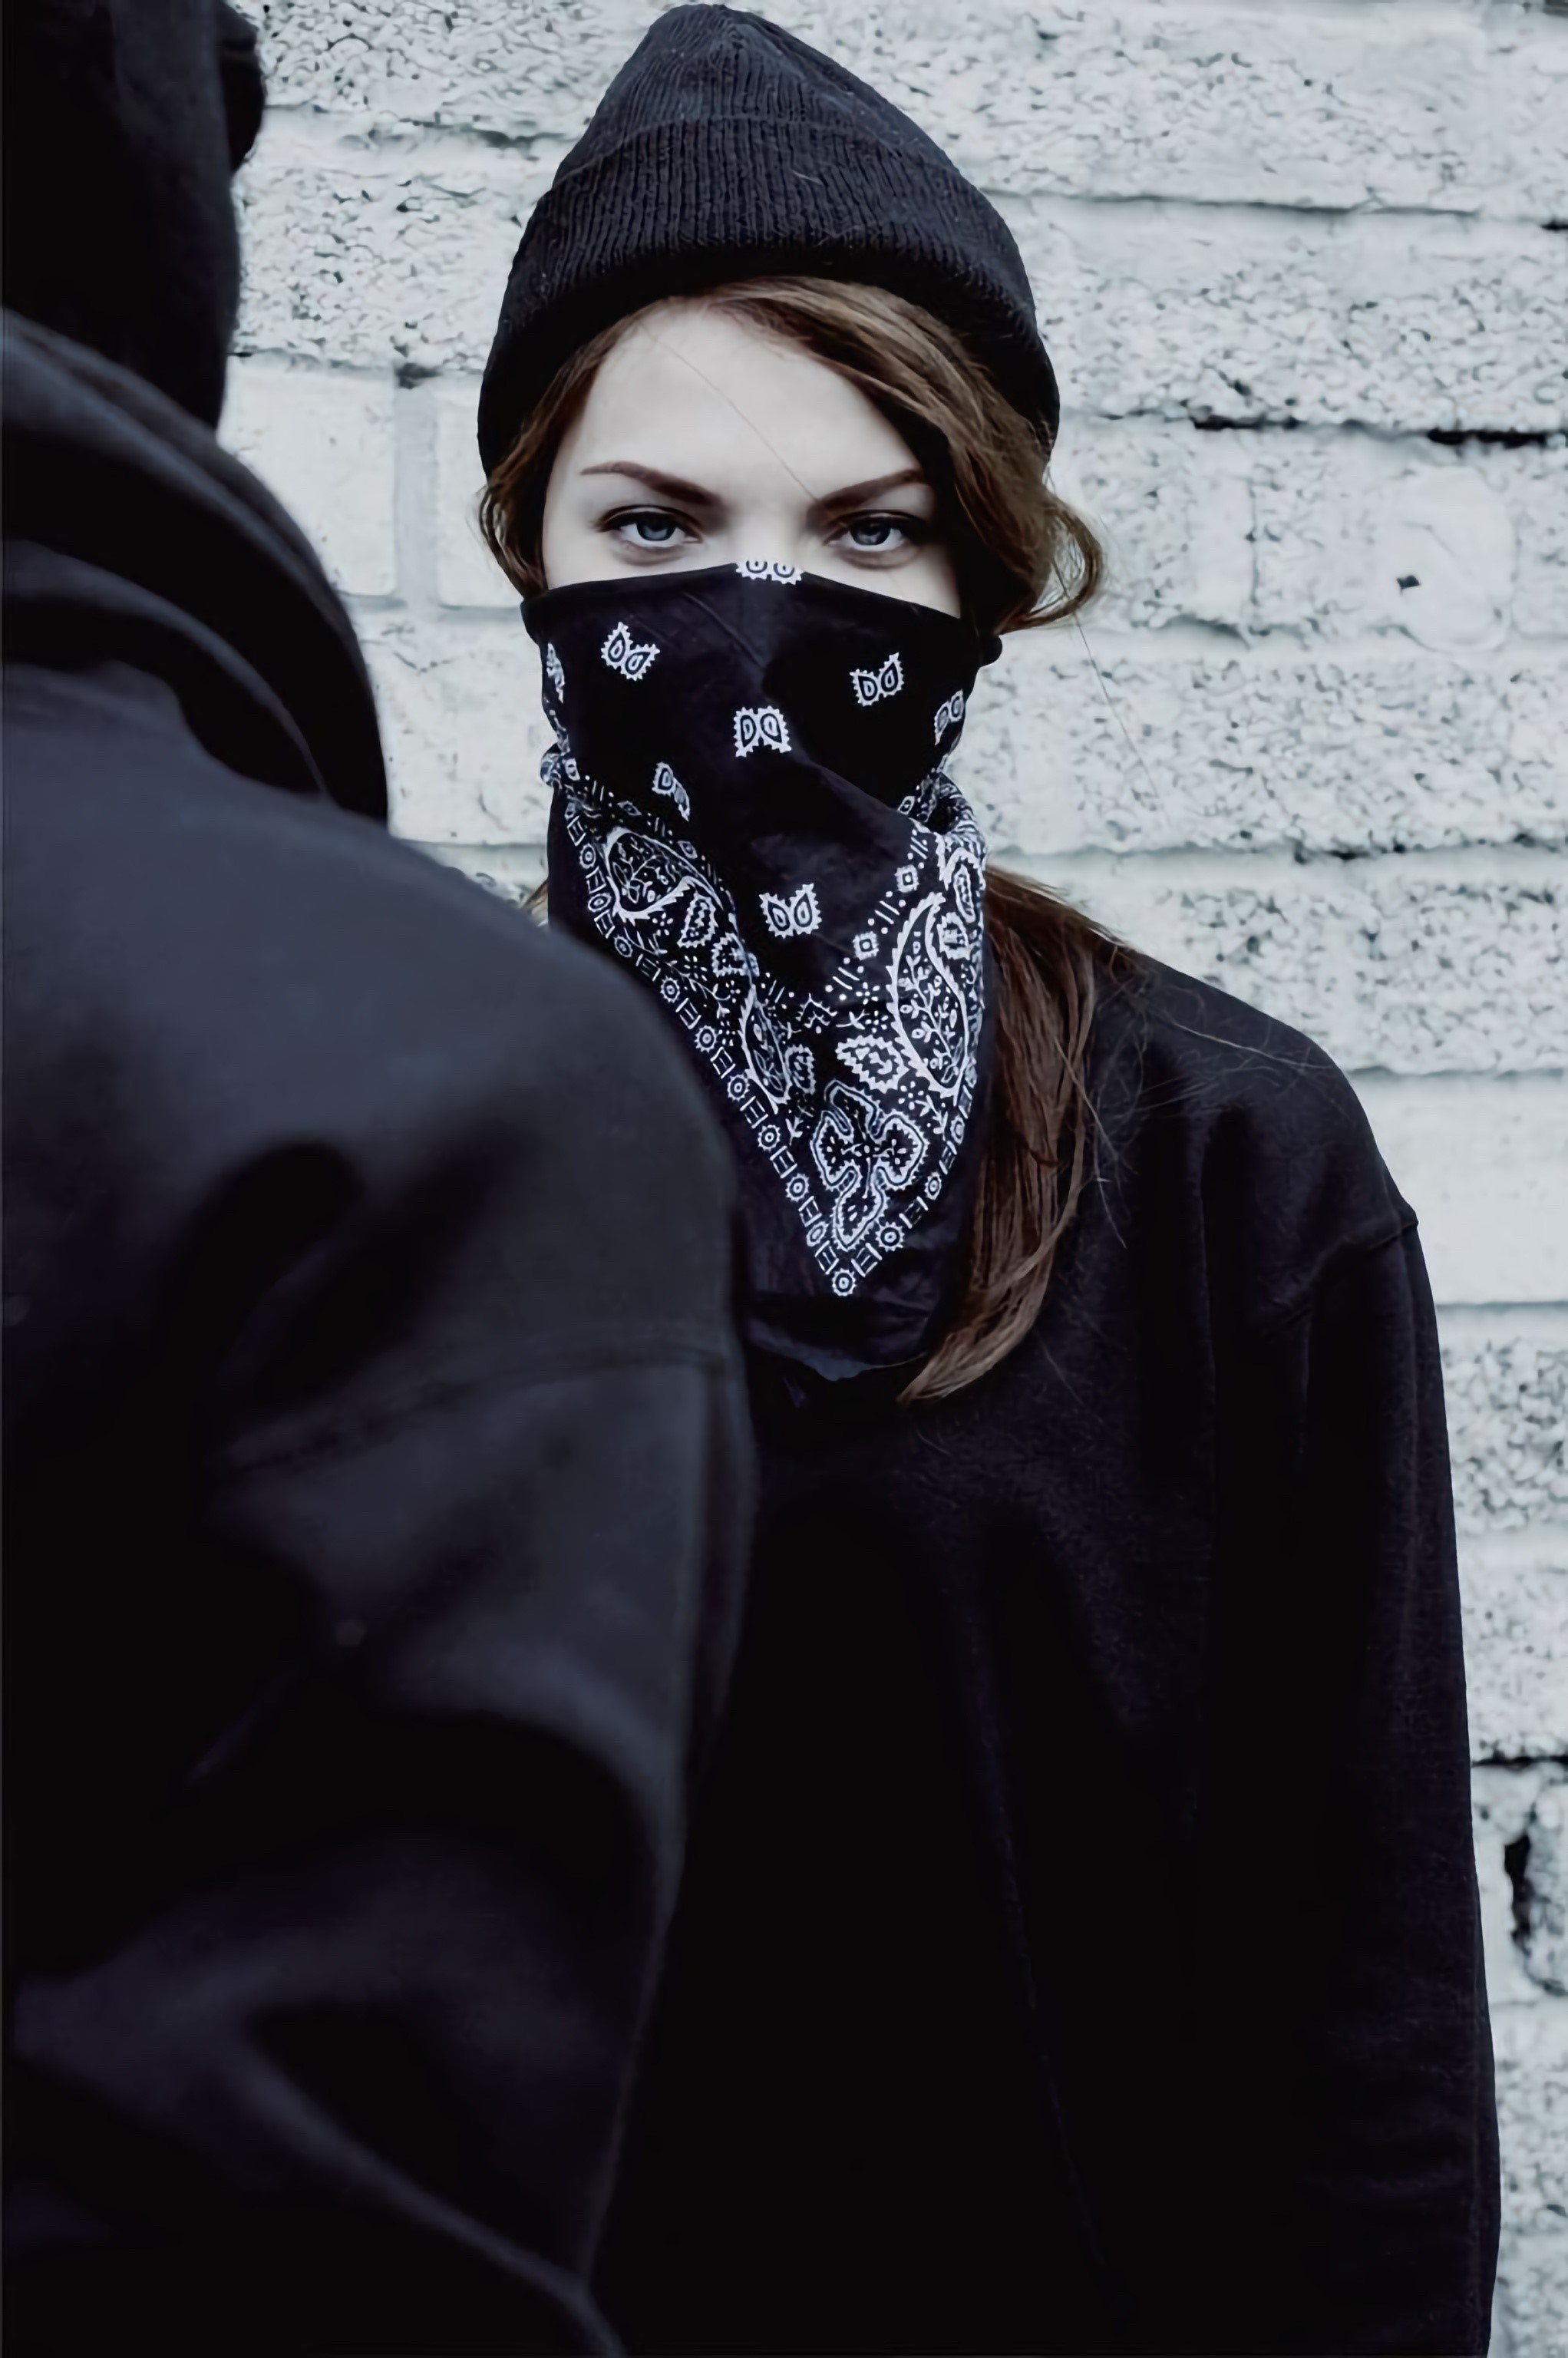face_with_mask: (524, 113, 1010, 874)
